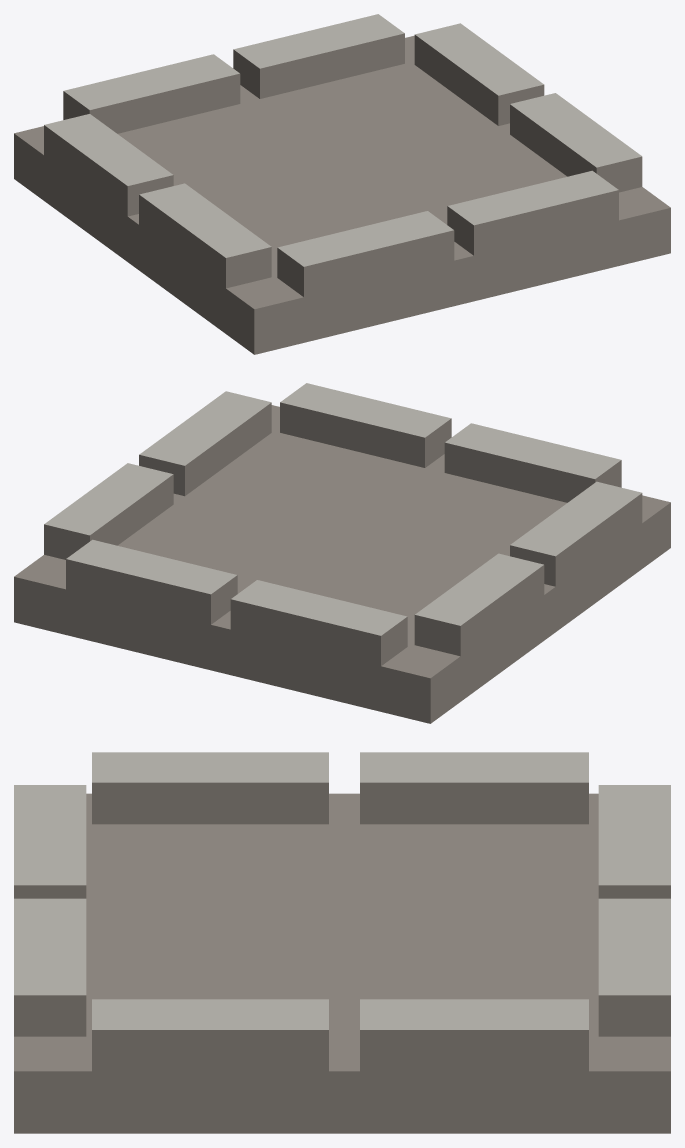
File: Pallet_Stone.fbx
3 views of the same model, one above another, from view 1: azimuth 30°, elevation 25°; view 2: azimuth 150°, elevation 25°; view 3: azimuth 270°, elevation 25° (orthographic). The views are drawn at different scales.
Visible parts, largest first — view 1: Pallet_Stone; view 2: Pallet_Stone; view 3: Pallet_Stone.
Boxes of the visible parts, x1,y1,x2,y2 form: Pallet_Stone: (14,14,670,354); Pallet_Stone: (14,383,670,723); Pallet_Stone: (14,752,670,1133).
Bounding box in the file's own units: 1.72 × 0.3 × 1.72.
